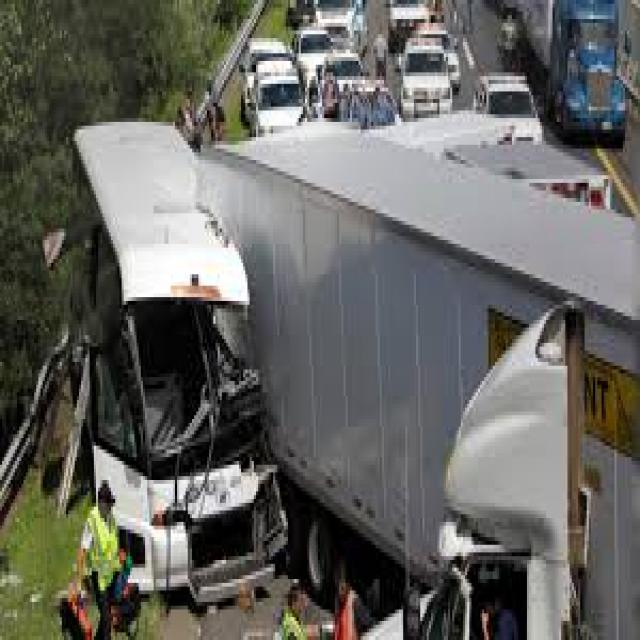accident: (22, 117, 376, 615)
